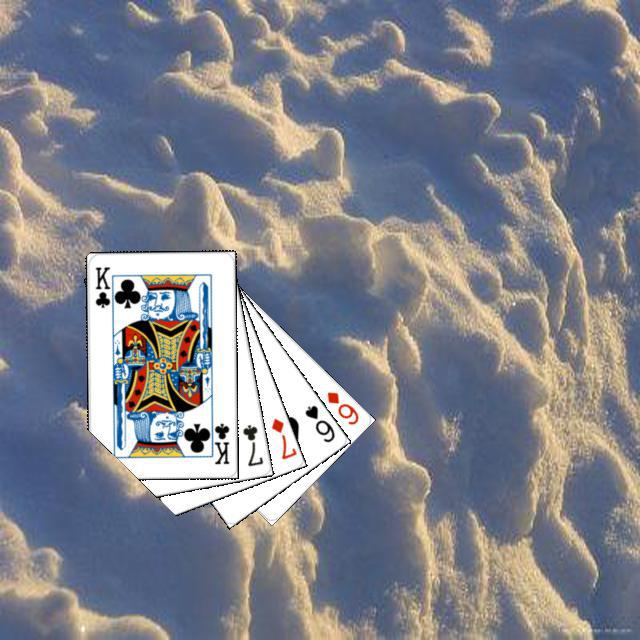6d: (322, 387, 361, 426)
6s: (300, 400, 337, 444)
7c: (238, 419, 265, 468)
7d: (266, 413, 297, 461)
Kc: (205, 414, 231, 466), (90, 262, 116, 314)
